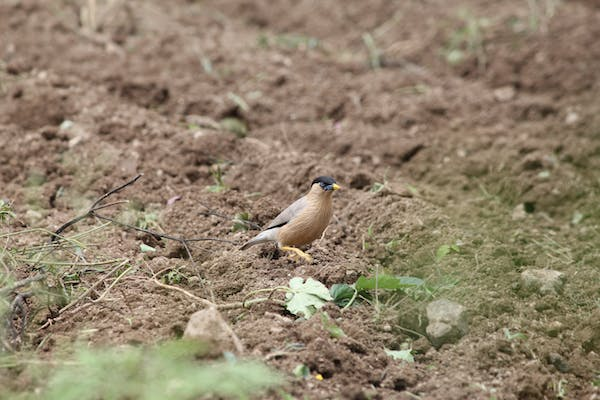Walking: (234, 146, 352, 274)
